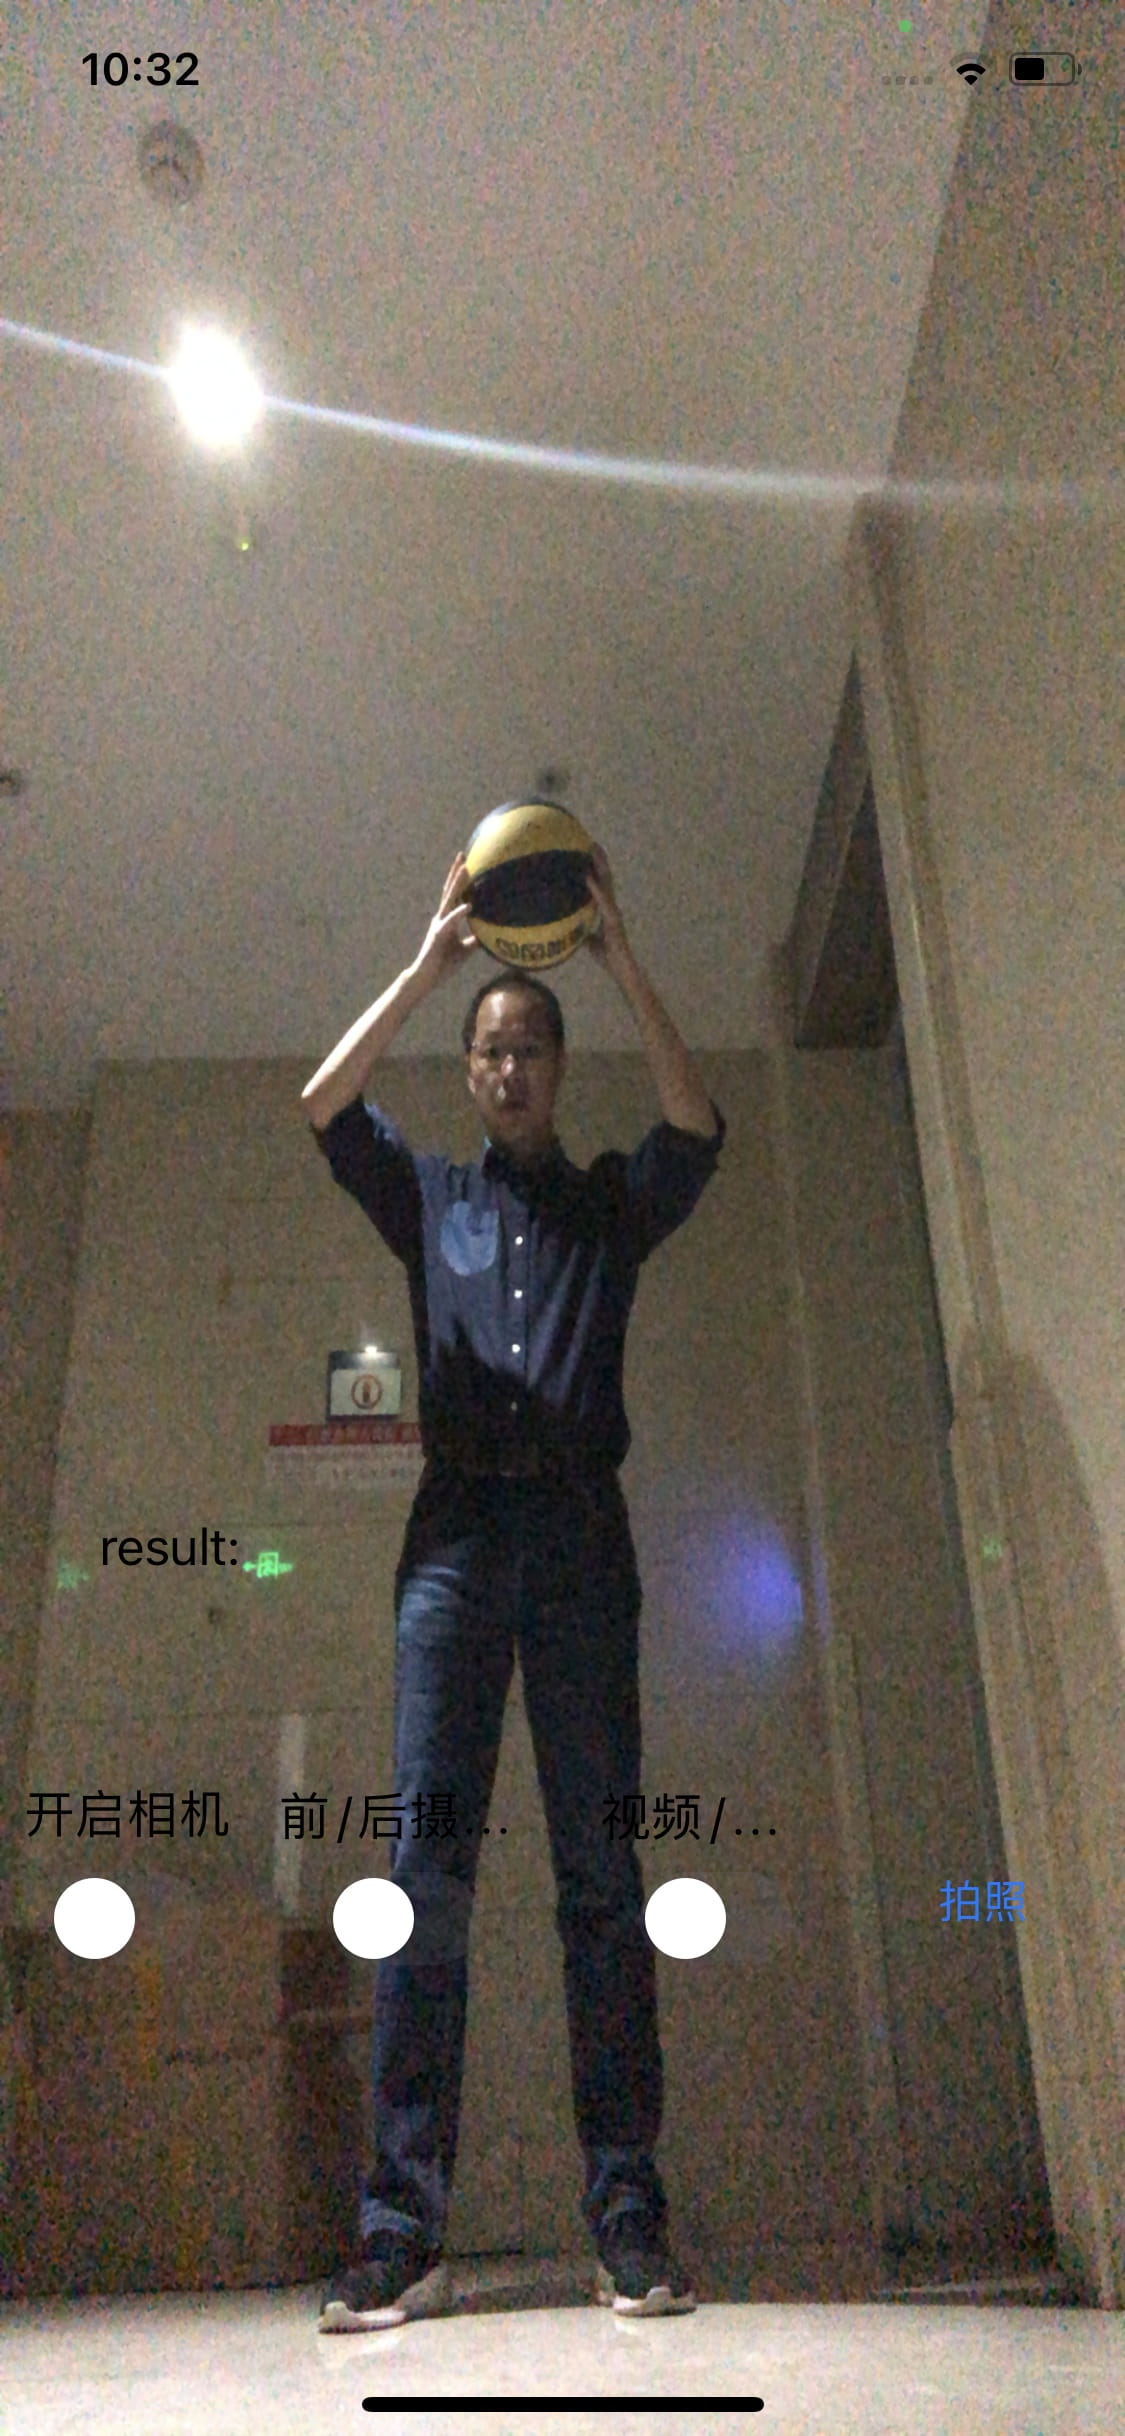ball: (461, 795, 604, 969)
